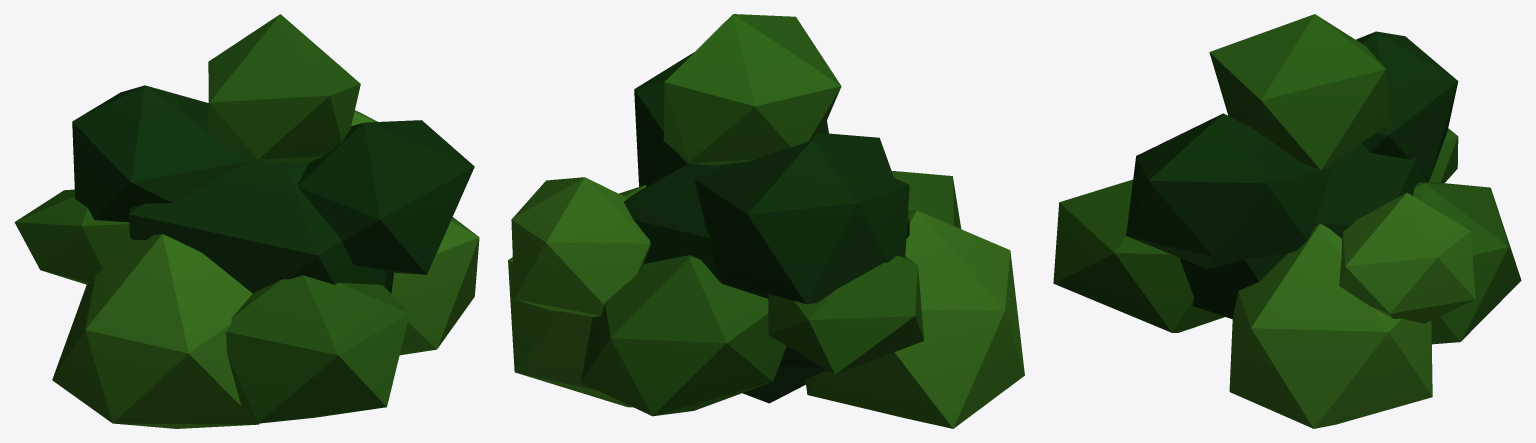
The model's file is oakL.glb.
3 renders of one model, left to right at view 1: azimuth 30°, elevation 25°; view 2: azimuth 150°, elevation 25°; view 3: azimuth 270°, elevation 25°, orthographic. The views are drawn at different scales.
Visible parts, largest first — view 1: oakL; view 2: oakL; view 3: oakL.
Part boxes in pixels (box(x1,y1,x2,y2)): oakL: box(14, 14, 479, 428); oakL: box(508, 14, 1024, 428); oakL: box(1053, 14, 1521, 428).
Bounding box in the file's own units: 1.22 × 1.05 × 1.21.
